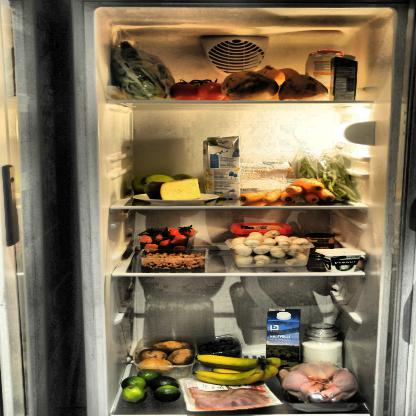apple: (134, 173, 197, 194)
banana: (192, 350, 279, 386)
blueberries: (196, 334, 247, 357)
butter: (229, 219, 297, 236)
carrot: (238, 178, 338, 206)
cheese: (146, 177, 204, 200)
chicken: (276, 358, 365, 405)
corn: (305, 232, 337, 258)
green_beans: (297, 148, 358, 204)
heavy_cream: (329, 54, 360, 102)
lime: (120, 370, 181, 404)
milk: (263, 308, 304, 377), (204, 134, 240, 203)
mushrooms: (226, 236, 310, 266)
potato: (138, 337, 193, 369)
shrimp: (139, 250, 209, 268)
spinach: (103, 39, 176, 101)
strawberries: (136, 225, 196, 255)
sweet_potato: (223, 65, 329, 103)
tomato: (170, 80, 229, 101)
